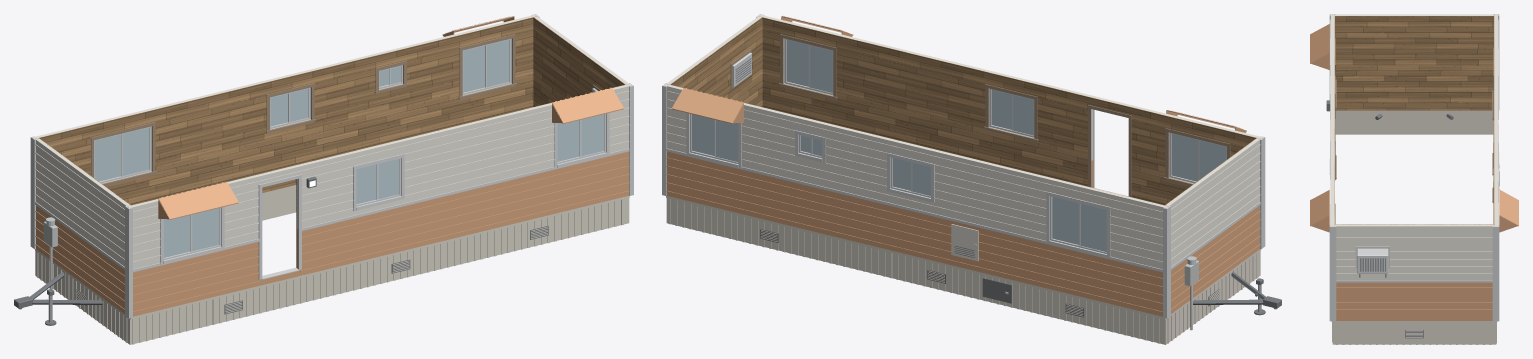
Rendered from trailer_d.glb.
3 renders of one model, left to right at view 1: azimuth 30°, elevation 25°; view 2: azimuth 150°, elevation 25°; view 3: azimuth 270°, elevation 25°, orthographic. The views are drawn at different scales.
Visible parts, largest first — view 1: trailer_d_panel, trailer_d_tr_o, trailer_d_tr_w, trailer_d_skirt, trailer_d_glass, trailer_d_alu, trailer_d_trim, trailer_d_steel_d, trailer_d_galv; view 2: trailer_d_panel, trailer_d_tr_w, trailer_d_tr_o, trailer_d_skirt, trailer_d_glass, trailer_d_alu, trailer_d_trim, trailer_d_steel_d, trailer_d_galv; view 3: trailer_d_panel, trailer_d_tr_w, trailer_d_tr_o, trailer_d_skirt, trailer_d_alu, trailer_d_steel_d, trailer_d_trim.
Part boxes in pixels (x1=…): trailer_d_panel: x1=35, y1=16, x2=629, y2=267; trailer_d_tr_o: x1=35, y1=16, x2=629, y2=316; trailer_d_tr_w: x1=33, y1=15, x2=631, y2=269; trailer_d_skirt: x1=35, y1=185, x2=629, y2=344; trailer_d_glass: x1=46, y1=39, x2=604, y2=257; trailer_d_alu: x1=30, y1=14, x2=633, y2=318; trailer_d_trim: x1=91, y1=34, x2=600, y2=267; trailer_d_steel_d: x1=14, y1=176, x2=548, y2=325; trailer_d_galv: x1=43, y1=217, x2=57, y2=289; trailer_d_panel: x1=666, y1=16, x2=1260, y2=206; trailer_d_tr_w: x1=664, y1=15, x2=1262, y2=269; trailer_d_tr_o: x1=666, y1=16, x2=1260, y2=316; trailer_d_skirt: x1=666, y1=196, x2=1260, y2=344; trailer_d_glass: x1=692, y1=40, x2=1226, y2=264; trailer_d_alu: x1=662, y1=14, x2=1265, y2=318; trailer_d_trim: x1=730, y1=34, x2=1230, y2=196; trailer_d_steel_d: x1=735, y1=58, x2=1281, y2=317; trailer_d_galv: x1=1184, y1=256, x2=1198, y2=330; trailer_d_panel: x1=1334, y1=14, x2=1494, y2=225; trailer_d_tr_w: x1=1330, y1=14, x2=1499, y2=279; trailer_d_tr_o: x1=1310, y1=24, x2=1518, y2=320; trailer_d_skirt: x1=1331, y1=110, x2=1497, y2=344; trailer_d_alu: x1=1329, y1=14, x2=1499, y2=321; trailer_d_steel_d: x1=1326, y1=100, x2=1499, y2=338; trailer_d_trim: x1=1335, y1=38, x2=1493, y2=224.
Bounding box in the file's own units: 13.98 × 3.23 × 5.
12 materials, 1 textured.
